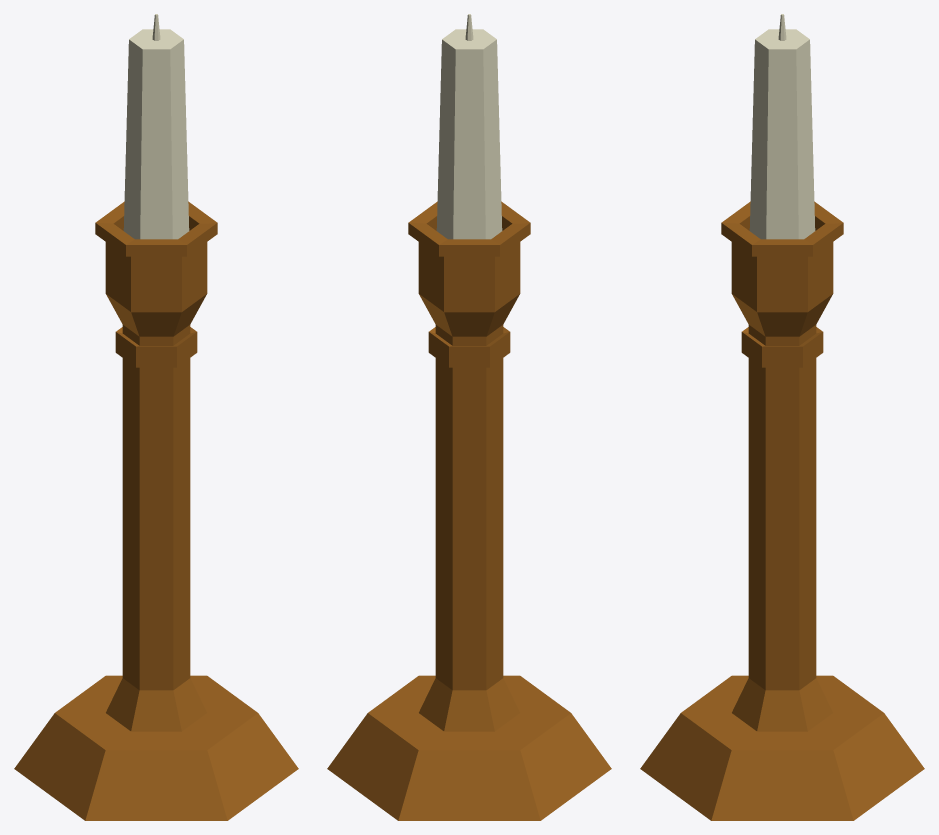
The model's file is CandlestickBasic.glb.
3 renders of one model, left to right at view 1: azimuth 30°, elevation 25°; view 2: azimuth 150°, elevation 25°; view 3: azimuth 270°, elevation 25°, orthographic.
Parts seen in each view (by area): view 1: Candlestick_v1; view 2: Candlestick_v1; view 3: Candlestick_v1.
Boxes of the visible parts, x1=… form: Candlestick_v1: x1=14, y1=14, x2=298, y2=820; Candlestick_v1: x1=327, y1=14, x2=611, y2=820; Candlestick_v1: x1=640, y1=14, x2=924, y2=820.
Bounding box in the file's own units: 0.2398 × 0.8093 × 0.2769.
